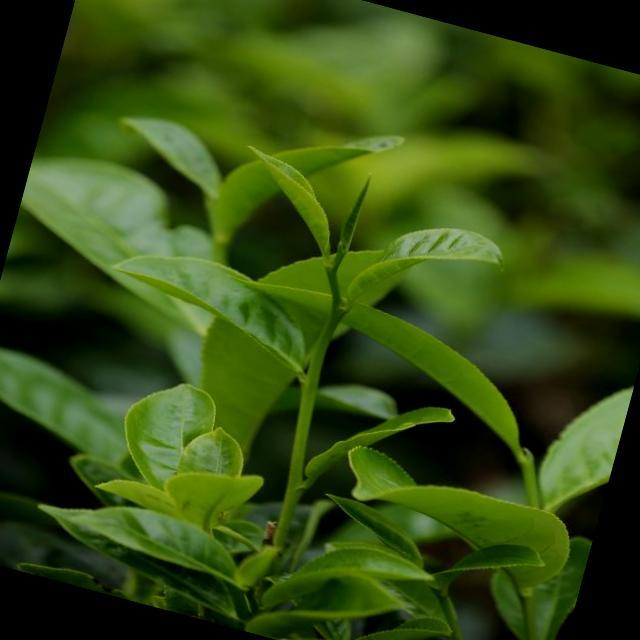Stem: (328, 272, 337, 283)
